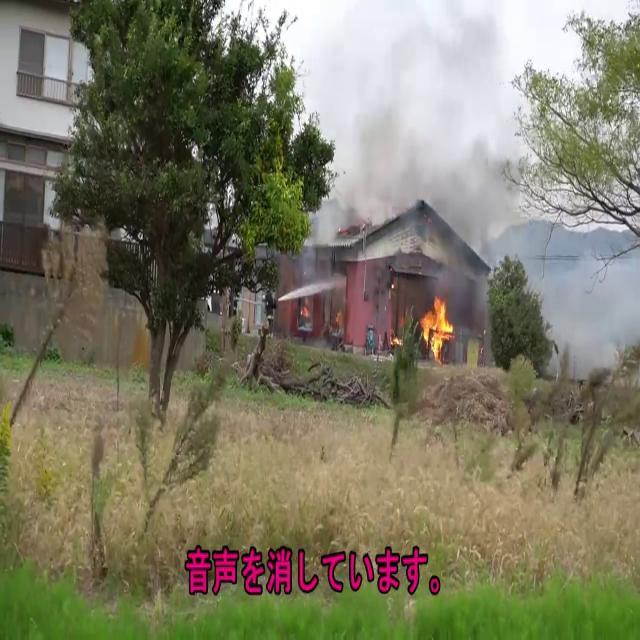Fire: (416, 287, 456, 358)
Smoke: (315, 1, 525, 264)
